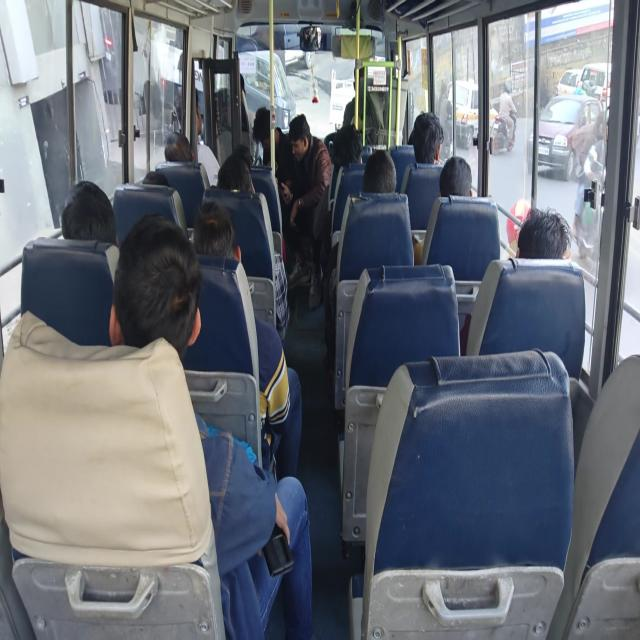person: (125, 254, 197, 360), (515, 203, 576, 275), (62, 178, 122, 248), (187, 211, 246, 278), (214, 148, 264, 220), (404, 115, 455, 172), (363, 152, 393, 212), (438, 170, 486, 207), (292, 110, 323, 160), (141, 156, 177, 198), (336, 136, 370, 174), (225, 48, 251, 96), (349, 61, 376, 106), (253, 118, 281, 149), (171, 131, 193, 166)
